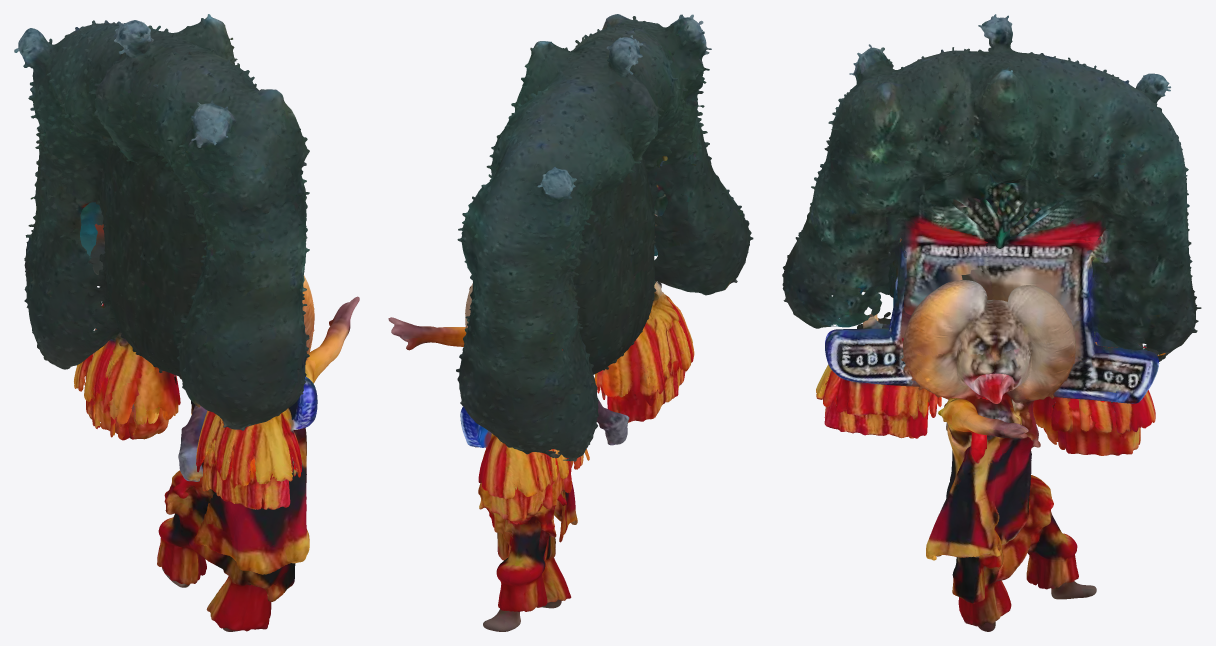
Rendered from reog.glb.
3 views of the same model, side by side, from view 1: azimuth 30°, elevation 25°; view 2: azimuth 150°, elevation 25°; view 3: azimuth 270°, elevation 25° (orthographic). The views are drawn at different scales.
Visible parts, largest first — view 1: Object_4; view 2: Object_4; view 3: Object_4.
Part boxes in pixels (bbox=[...]): Object_4: bbox=[14, 14, 359, 631]; Object_4: bbox=[388, 14, 753, 631]; Object_4: bbox=[782, 14, 1201, 631].
Bounding box in the file's own units: 0.46 × 1 × 0.6773.
1 material, 1 textured.
